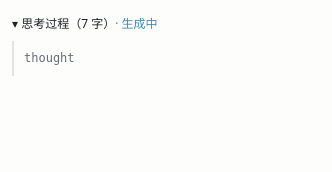
Test: thinking collapse › keeps a manual toggle after streaming ends
Click the button "▾ 思考过程（7 字）· 生成中": point(85, 24) [12,12,158,35]
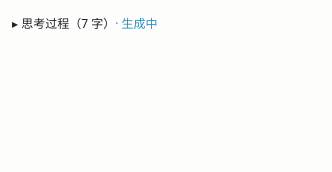
Check: the text "thought" is gone
